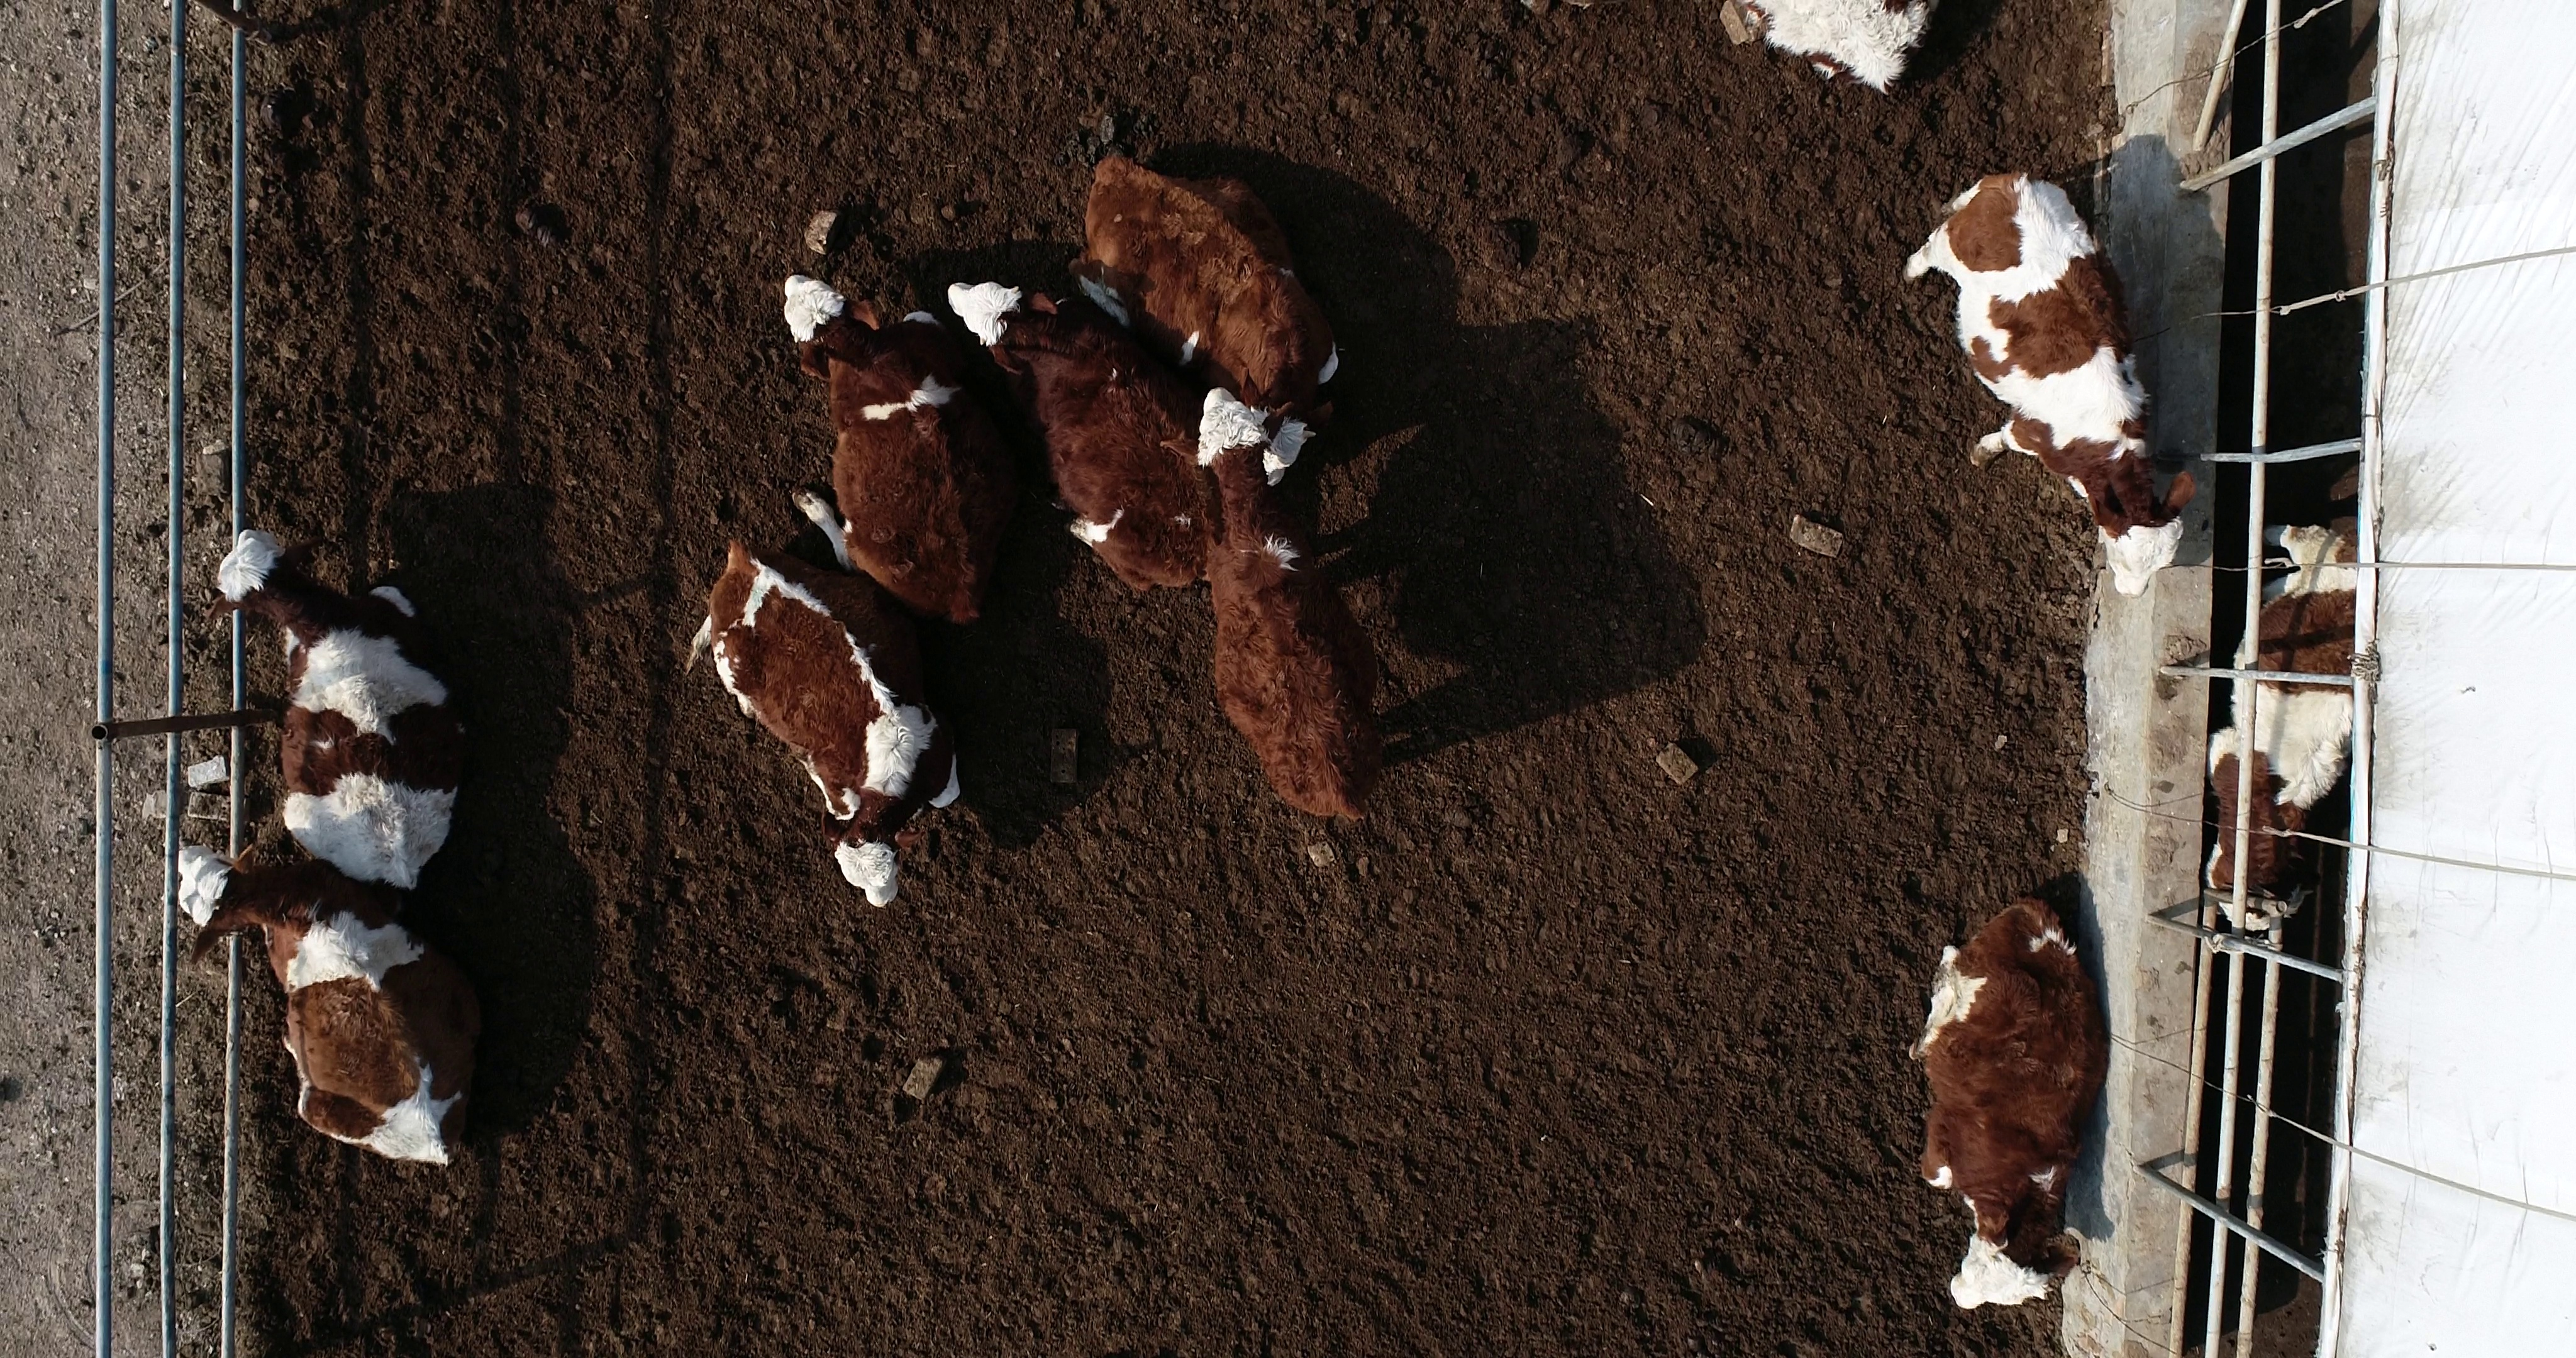cattle: (1893, 157, 2198, 601), (680, 535, 980, 913), (165, 843, 484, 1174), (194, 525, 472, 901), (1153, 387, 1394, 820), (1061, 135, 1351, 482), (772, 264, 1019, 634), (1903, 888, 2106, 1321)
